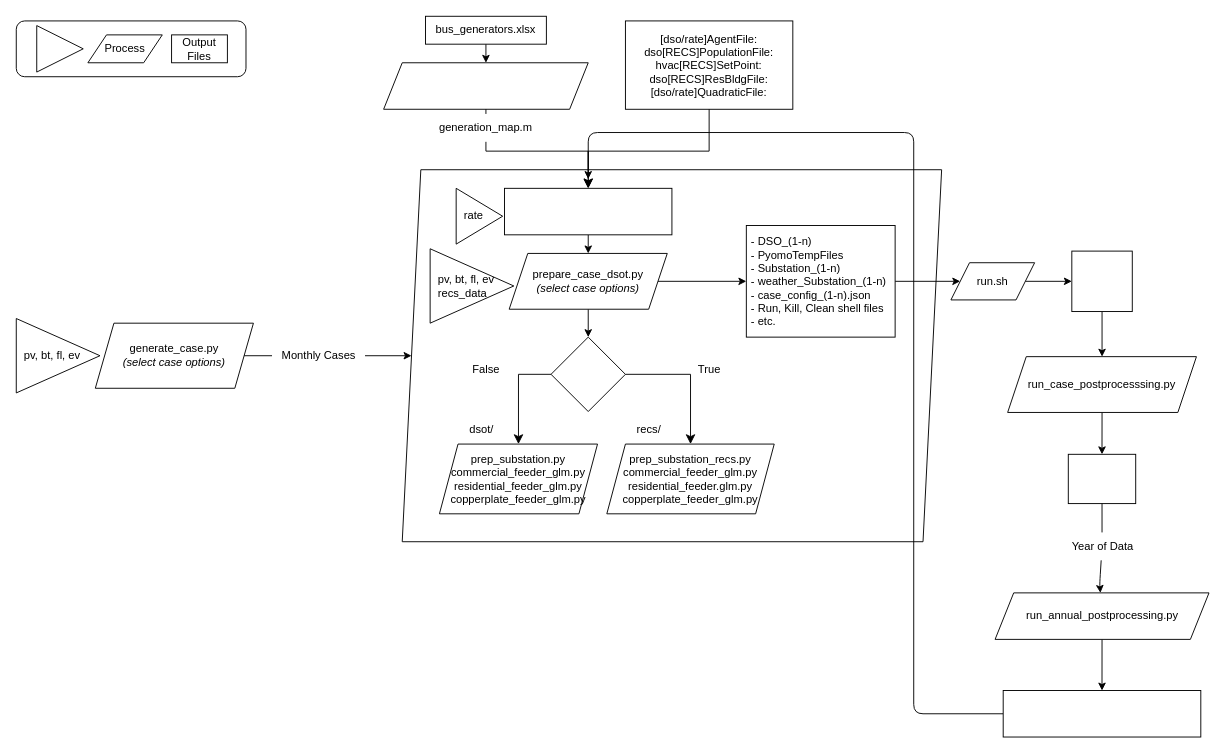
Some shapes in this 1226 by 753 pixel diagram are drawn without their labels. The centre of each missing label's shape, as x and y in pixels:
.log .h5 .dat .csv: point 1101,281
8_hi_DSO_quadratic_curves.json: point 1101,713
8_hi_system_case_config.json (select case and rate options): point 588,211
Config: point 59,48
plots .csv: point 1101,478
recs_data: point 587,374
tesp_support.dsot.gen_map. py (select case options): point 485,85
